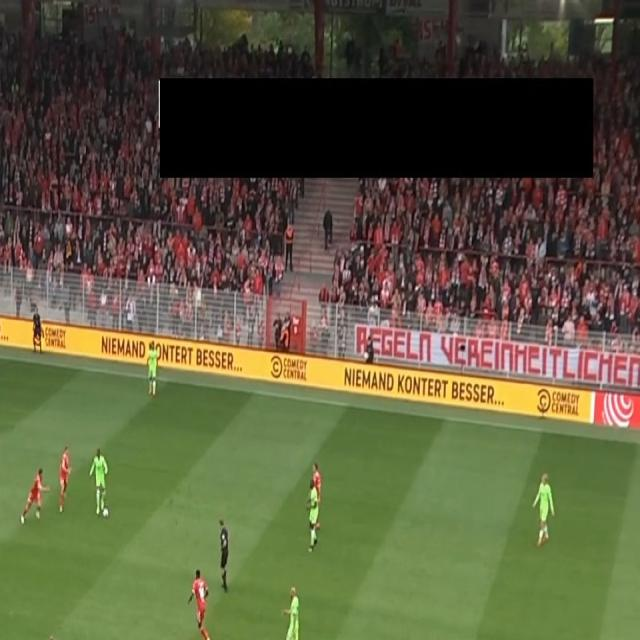ball: (102, 505, 111, 521)
